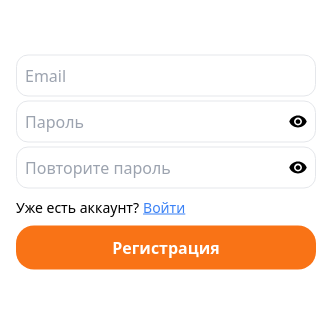
Test case: Register › Проверка что рендерится кнопка регистрация и если поля пустые то будет ошибка у кадого поля Заполните поле
Click the button "Регистрация" at (166, 248), box [16,226,316,270]
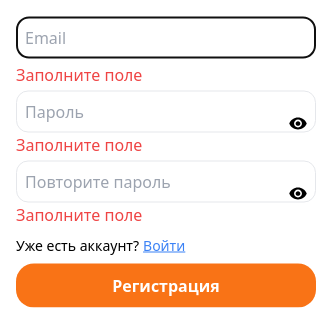
Expected: the text "Заполните поле" is shown 3 times, [16,64,142,86]; [16,134,142,156]; [16,204,142,226]
